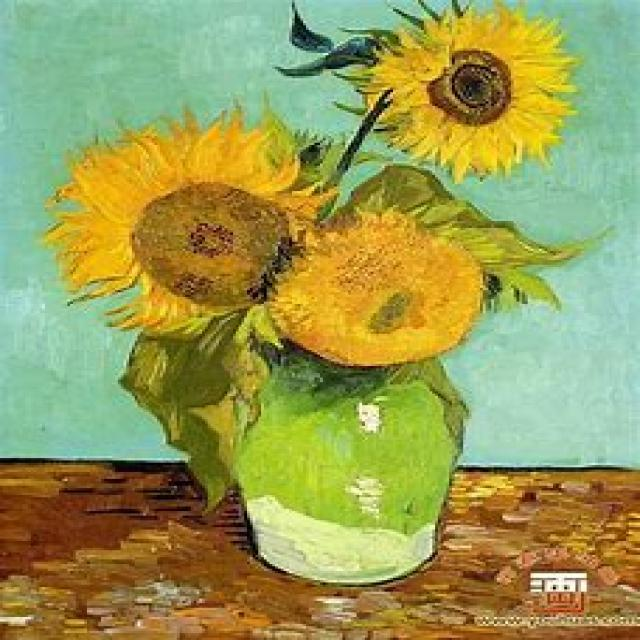sunflower: (6, 6, 634, 638)
